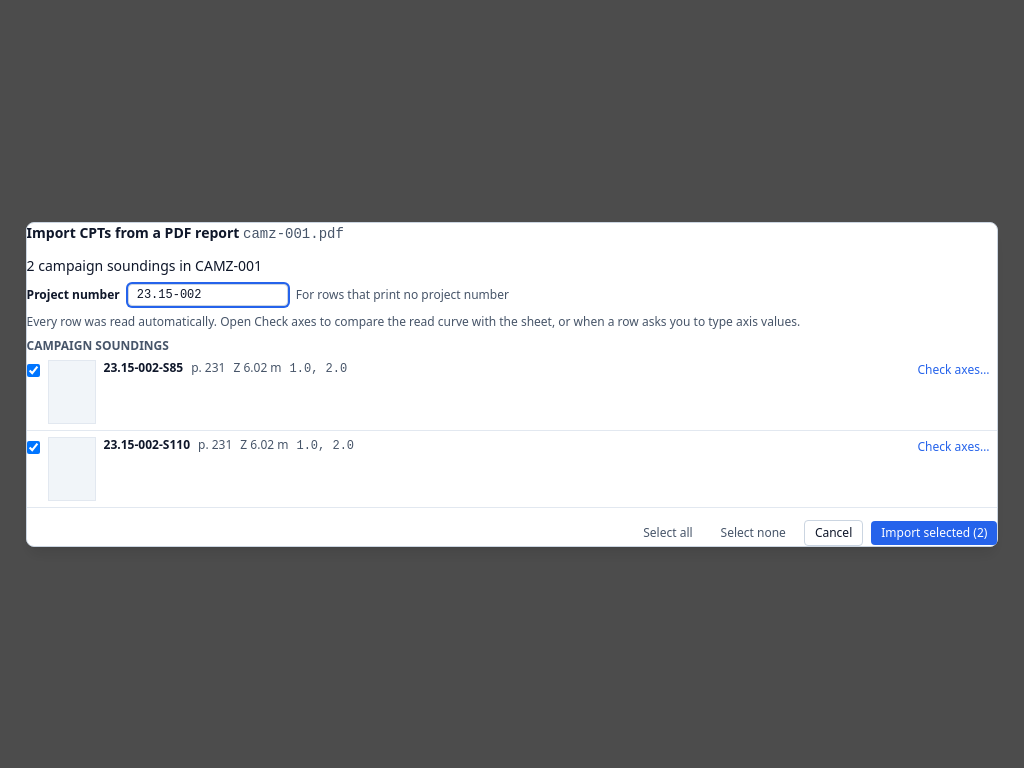
Test: CptPdfImportDialog › the Projectnummer field › typing fills only the rows that print no project number, in their label
Replace the text in the field with test id "cpt-pdf-project-number" with "23.15-006" at (208, 294), box left=128, top=284, right=288, bottom=306
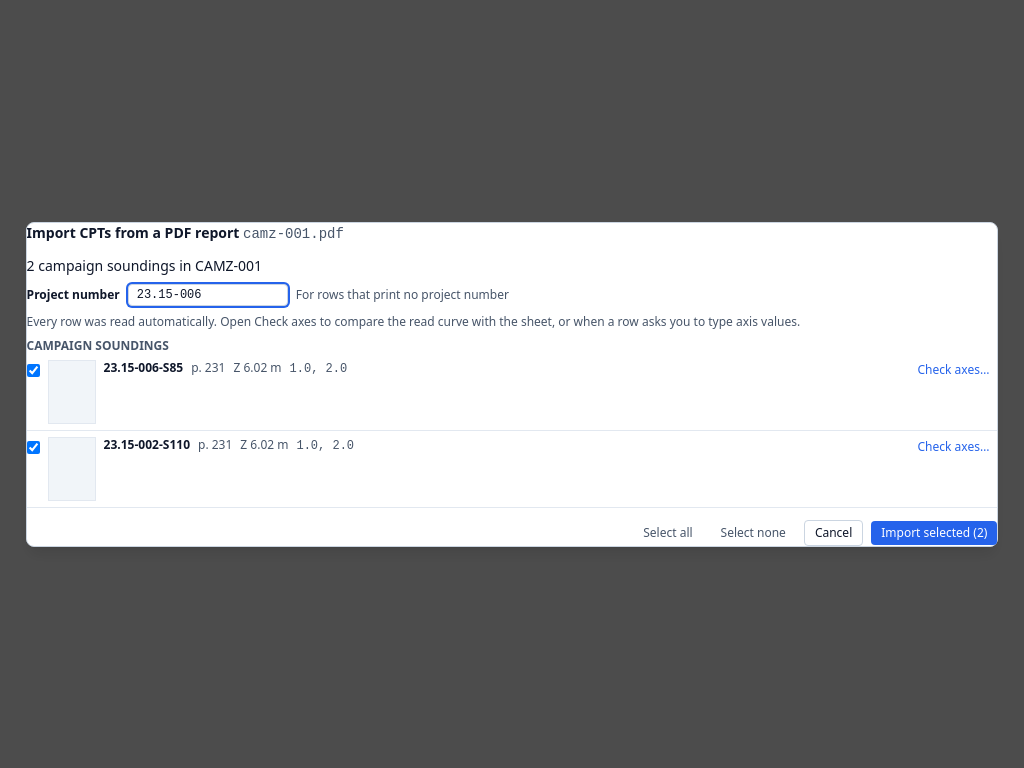
Expected: the list item with test id "cpt-pdf-row-campaign" shows "23.15-002-S110", left=104, top=436, right=190, bottom=452
Expected: the list item with test id "cpt-pdf-row-campaign" shows "23.15-006-S85", left=104, top=358, right=183, bottom=376
